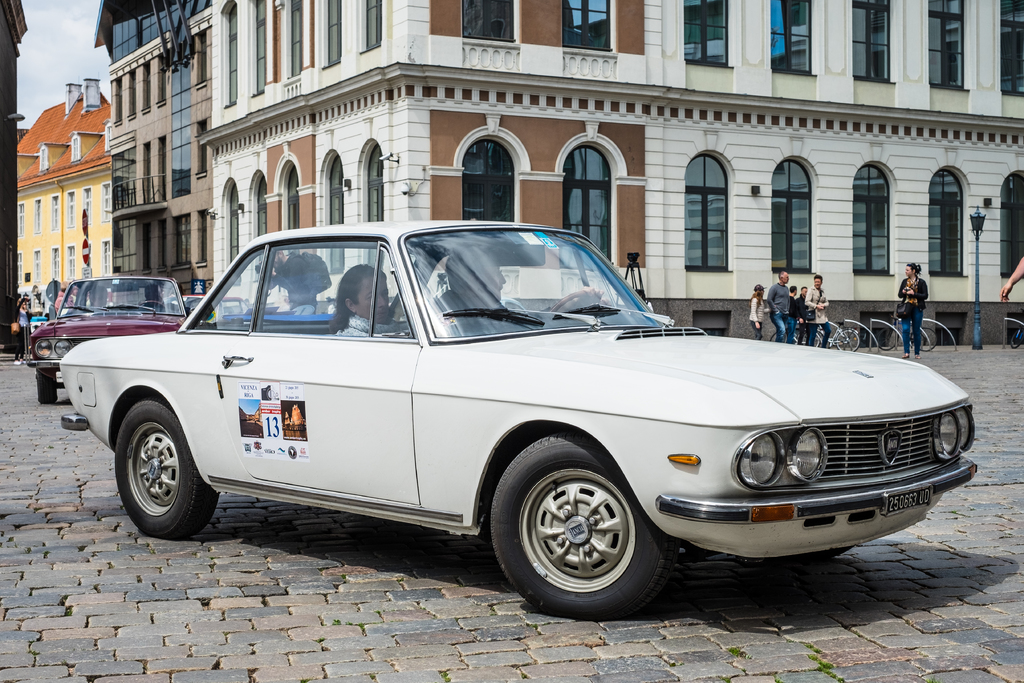Car: (65, 221, 979, 618), (26, 270, 214, 403)
